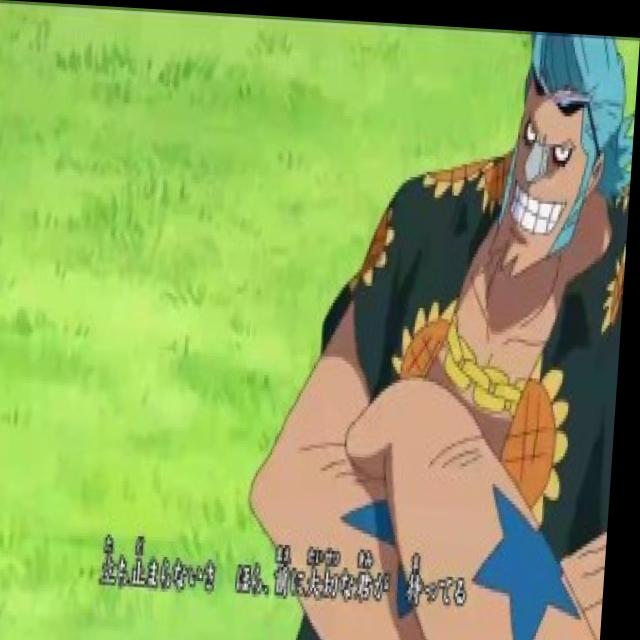Franky: (478, 23, 638, 274)
